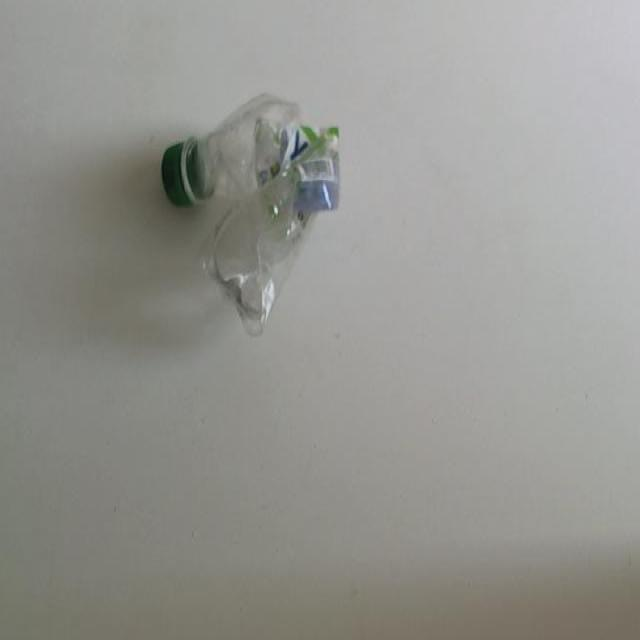defect: (158, 87, 343, 341)
